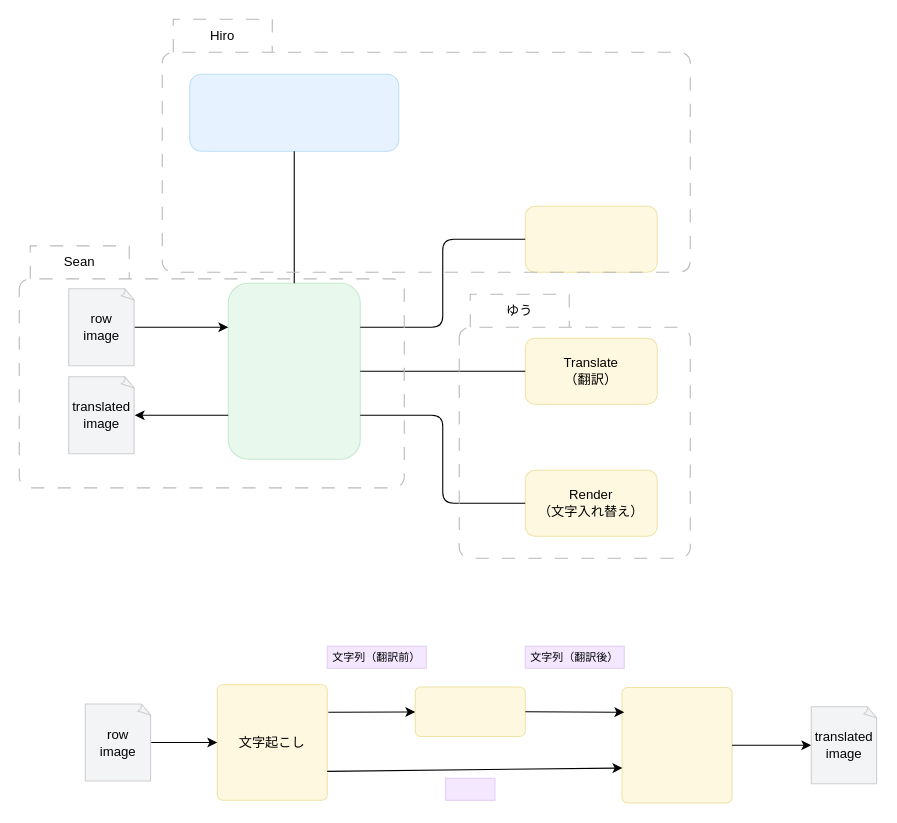
The diagram is 897 pixels wide and 823 high, and some of its shapes have lost their labels. The centre of each missing label's shape, as x and y in pixels:
API Server: pixel 293 370
Next.js （フロント）: pixel 294 112
OCR （文字起こし）: pixel 590 238
座標: pixel 469 788
文字入れ替え: pixel 676 744
翻訳: pixel 469 711
